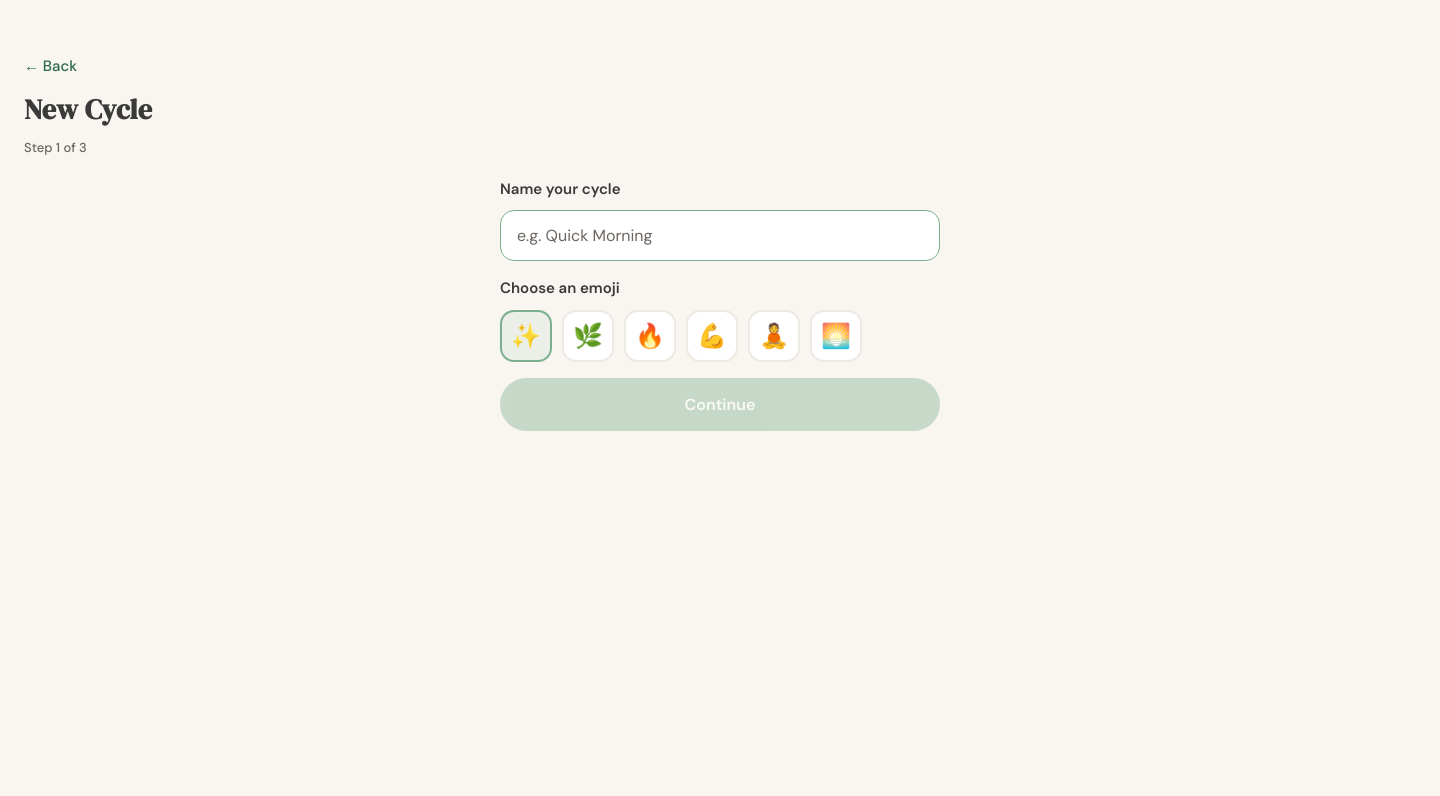
CycleBuilder — step 2 (select exercises) › "Add all" selects every exercise, and toggles to "Remove all"
This screenshot has width=1440, height=796.
Type "My Mix" into the field with placeholder "e.g. Quick Morning" at x=720, y=236, box [500, 210, 940, 261]
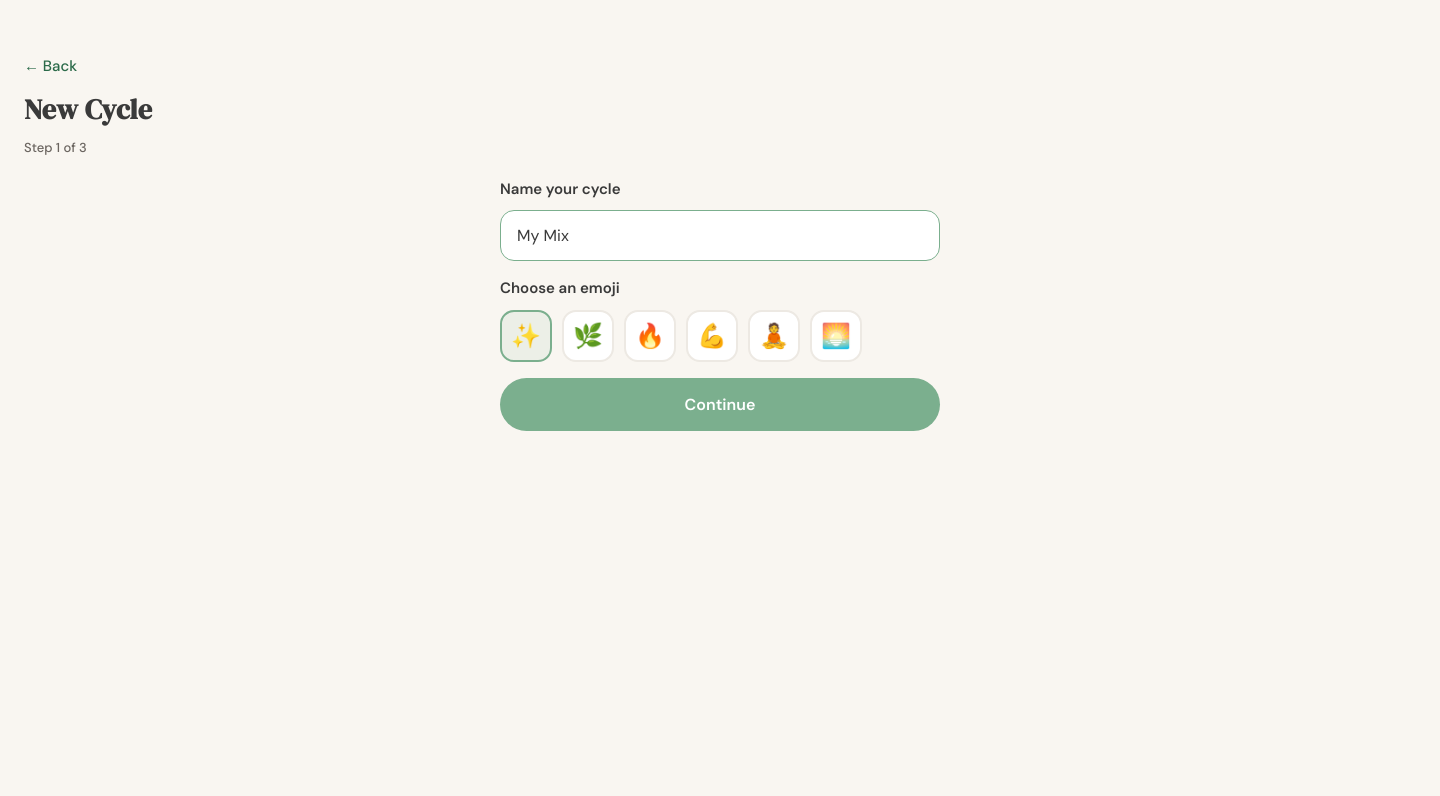
Click the button "Continue" at x=720, y=404, box [500, 378, 940, 430]
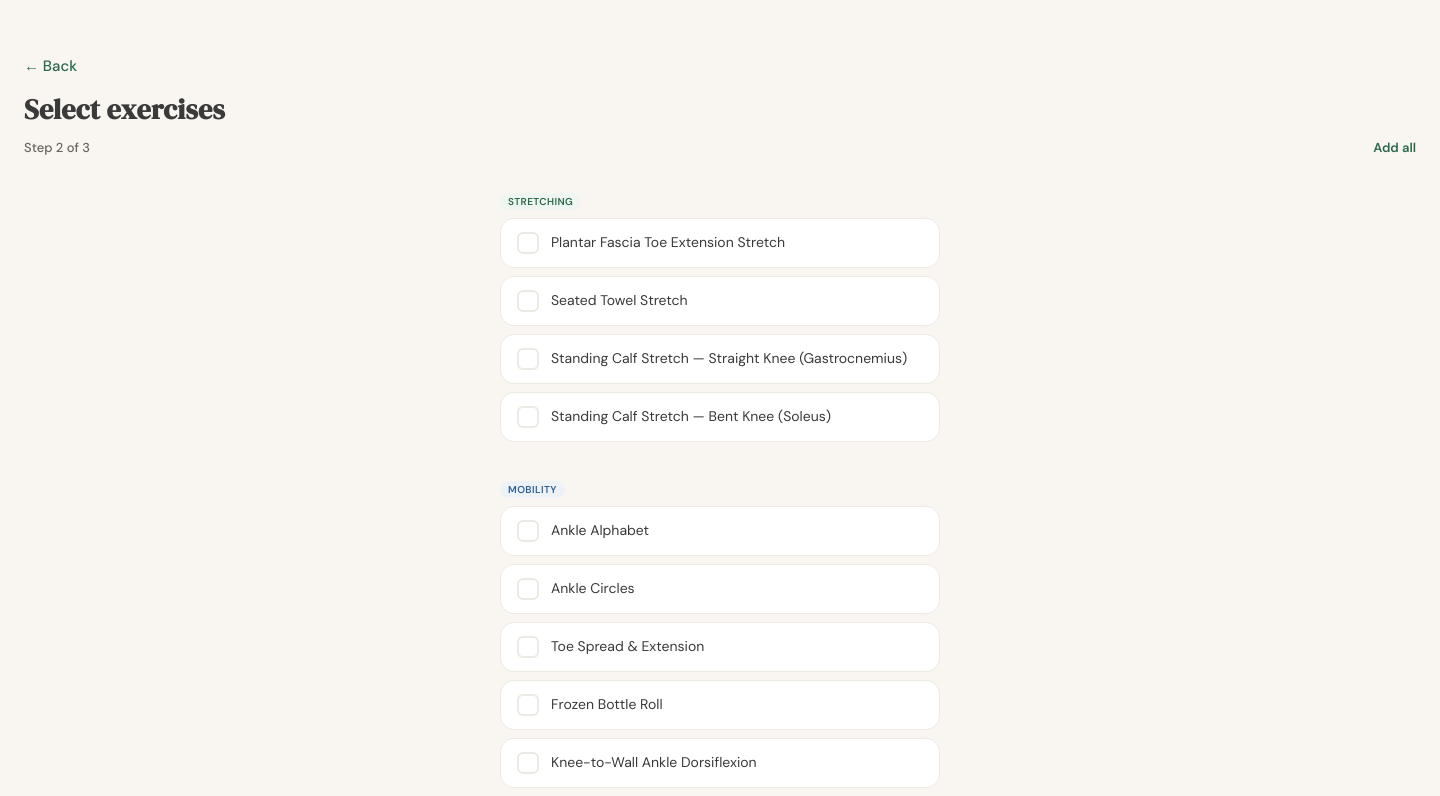
Click the button "Add all" at x=1395, y=148, box [1373, 139, 1416, 156]
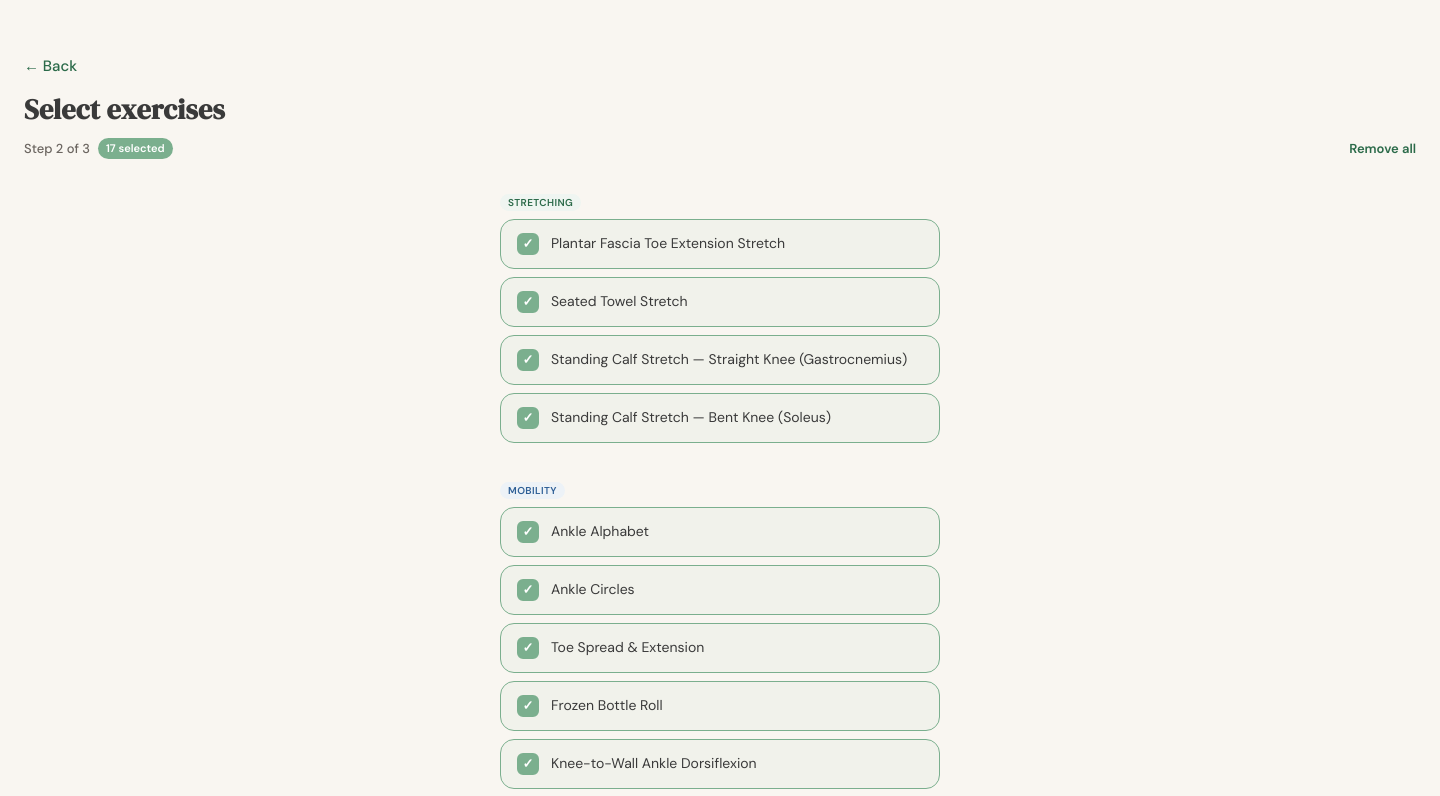
expect the button "Remove all" is shown: met, box [1349, 140, 1416, 157]
